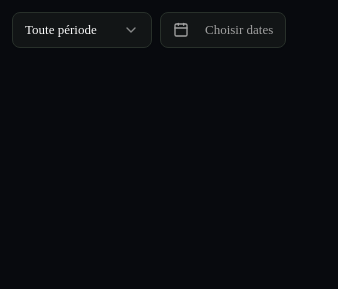
Test: ListDateFilter › writes the period into the URL, in the contracts’ spelling
The width and height of the screenshot is (338, 289).
Click the dropdown at {"x": 82, "y": 30}, box [12,12,152,48]
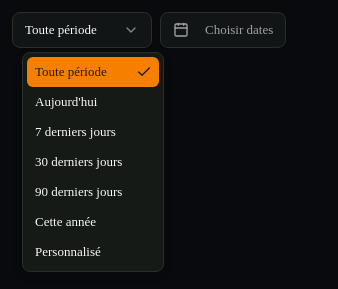
Click the option "30 derniers jours" at {"x": 79, "y": 162}, box [35,154,122,169]
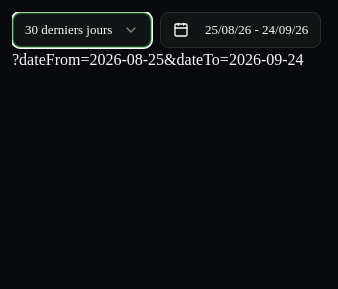
Now the text "?dateFrom=2026-08-25&dateTo=2026-09-24" is shown, box [12,51,304,68]
